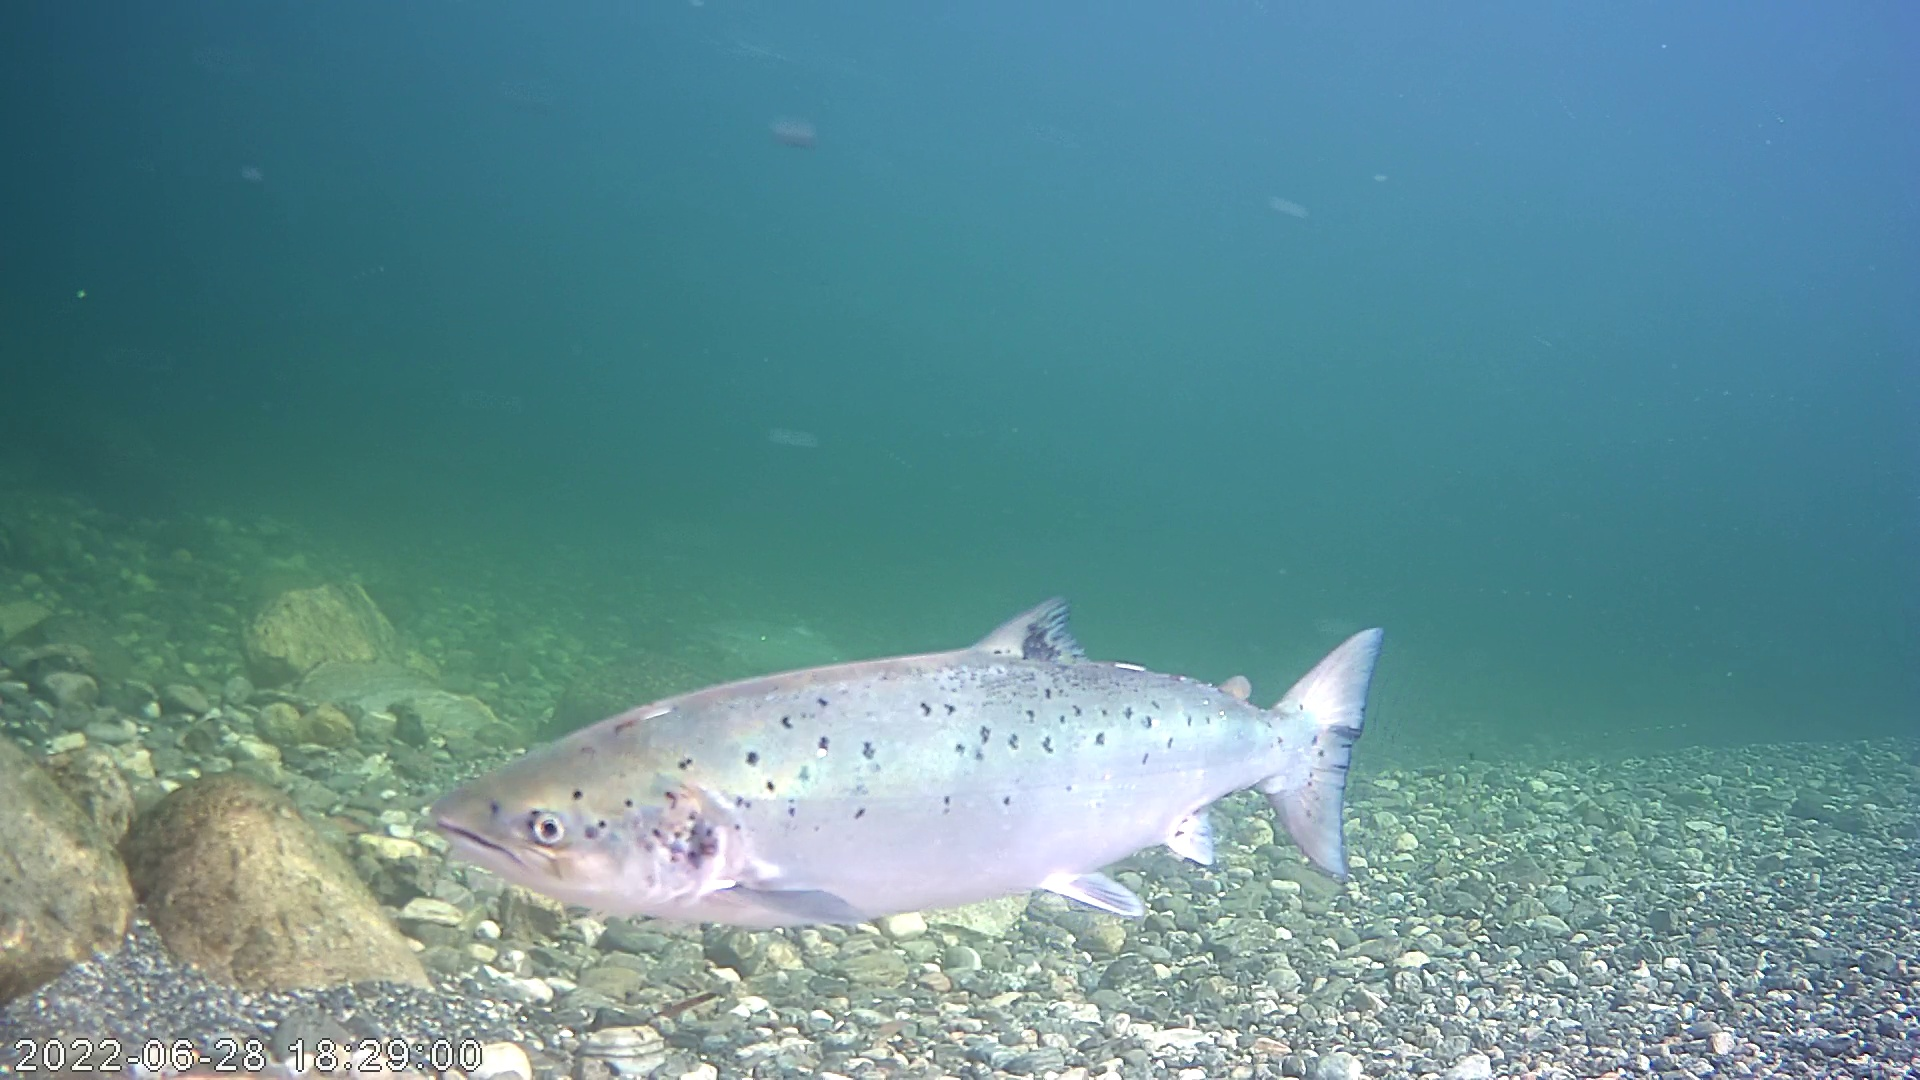salmon: (422, 524, 1399, 930)
